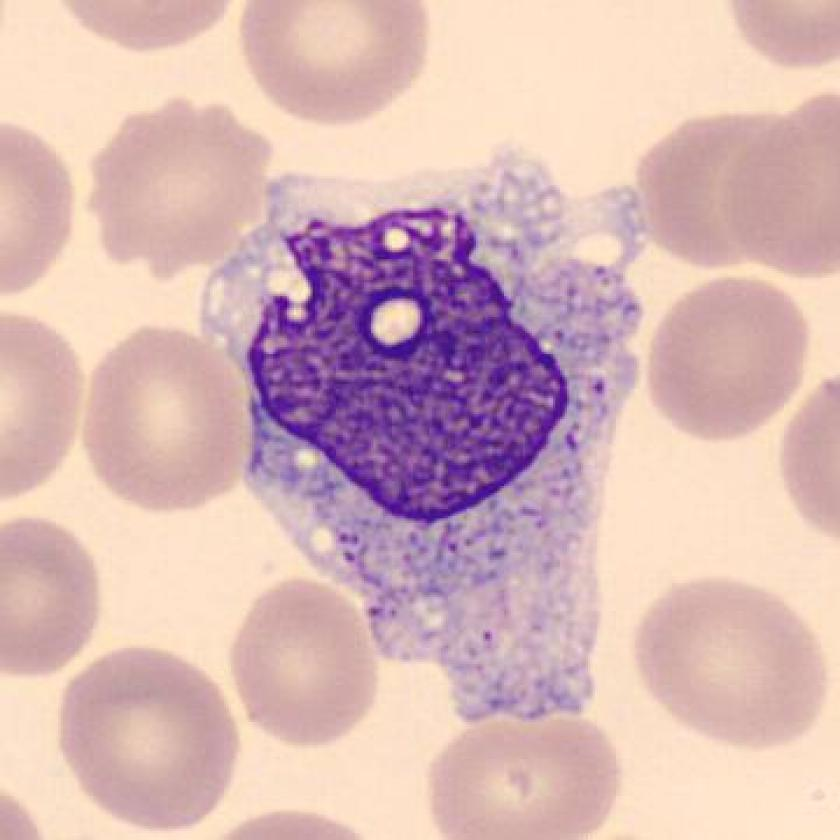monocyte: (185, 131, 671, 739)
